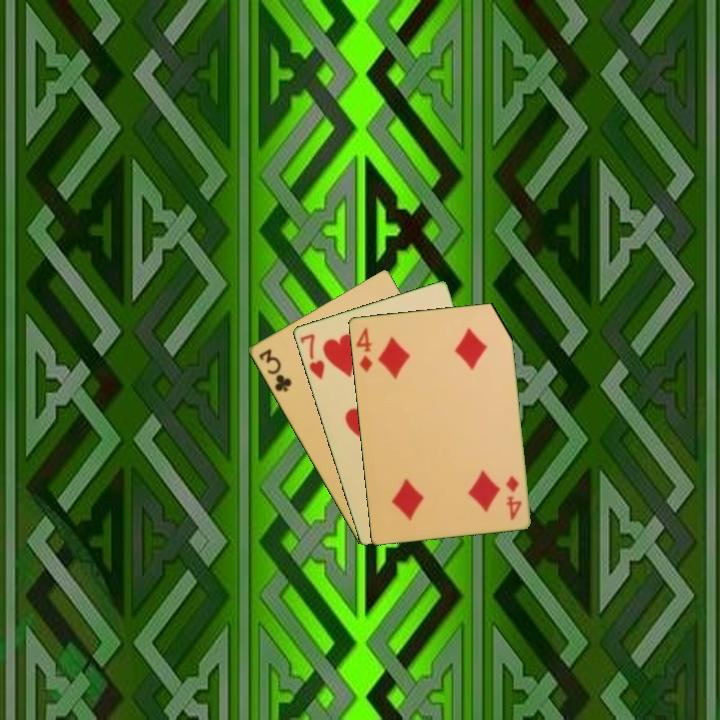3c: (255, 345, 294, 395)
4d: (352, 323, 375, 375), (502, 472, 524, 523)
7h: (296, 330, 327, 382)
